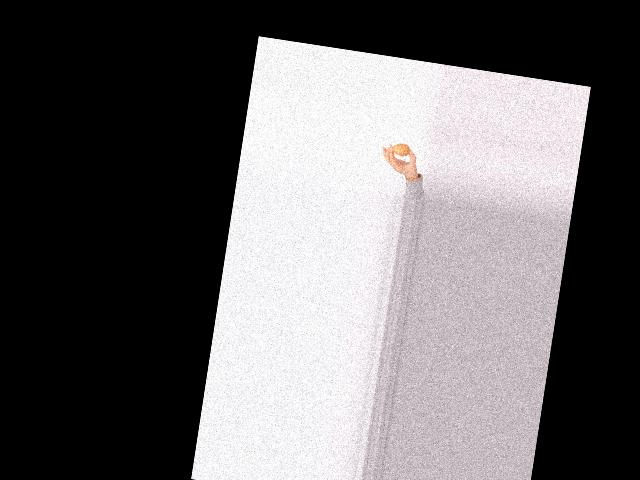egg: (391, 141, 411, 156)
